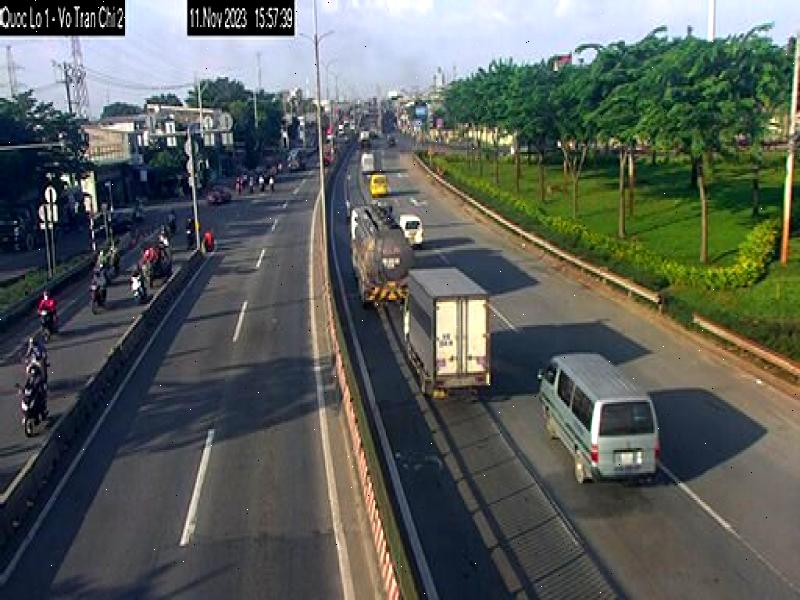truck: (404, 267, 496, 399), (347, 202, 410, 313)
